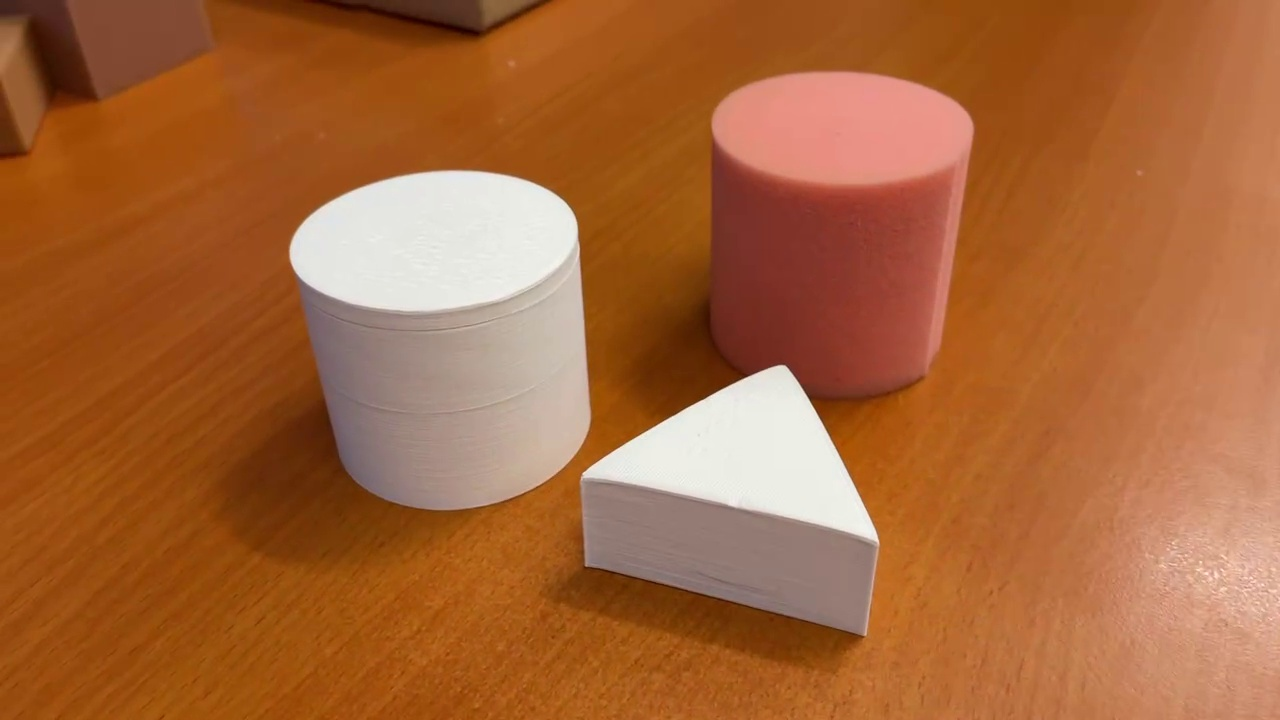Cylinder: (281, 158, 598, 517), (692, 64, 980, 407)
Triangle_short: (571, 356, 885, 640)
